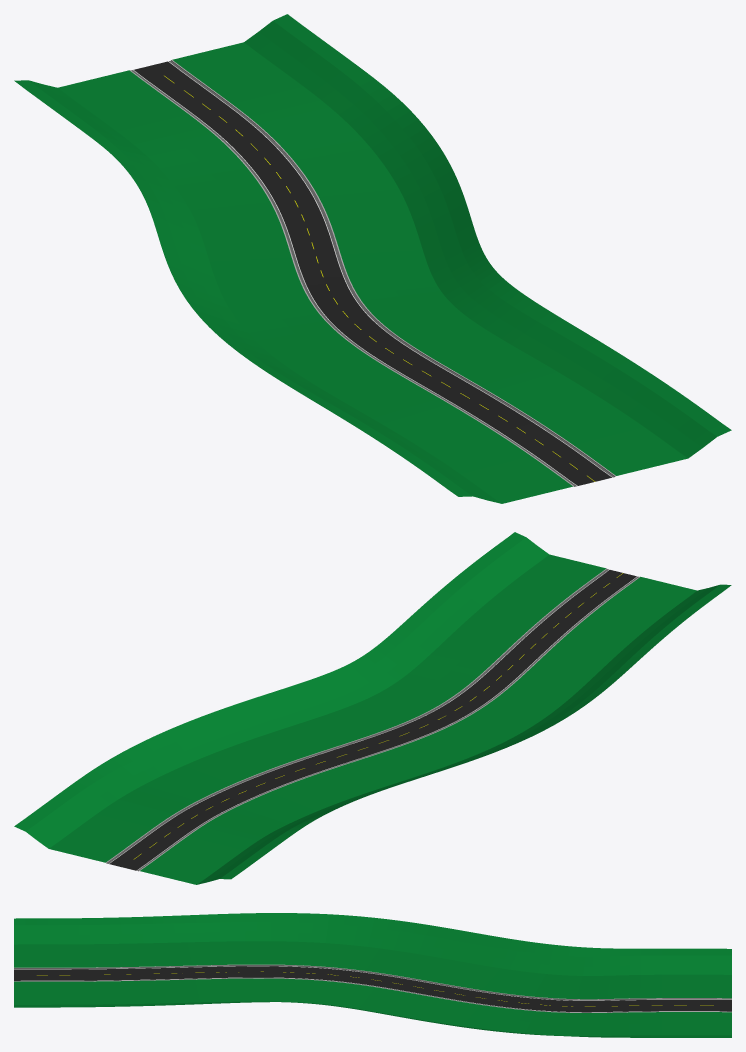
Rendered from HighWay-05.fbx.
3 views of the same model, one above another, from view 1: azimuth 30°, elevation 25°; view 2: azimuth 150°, elevation 25°; view 3: azimuth 270°, elevation 25° (orthographic). The views are drawn at different scales.
Parts seen in each view (by area): view 1: HW-05; view 2: HW-05; view 3: HW-05.
Part boxes in pixels (bbox=[...]): HW-05: bbox=[14, 14, 731, 503]; HW-05: bbox=[14, 532, 731, 884]; HW-05: bbox=[14, 913, 731, 1037].
Size of what is drawn, in the model's own units: 132 by 7.96 by 320.
